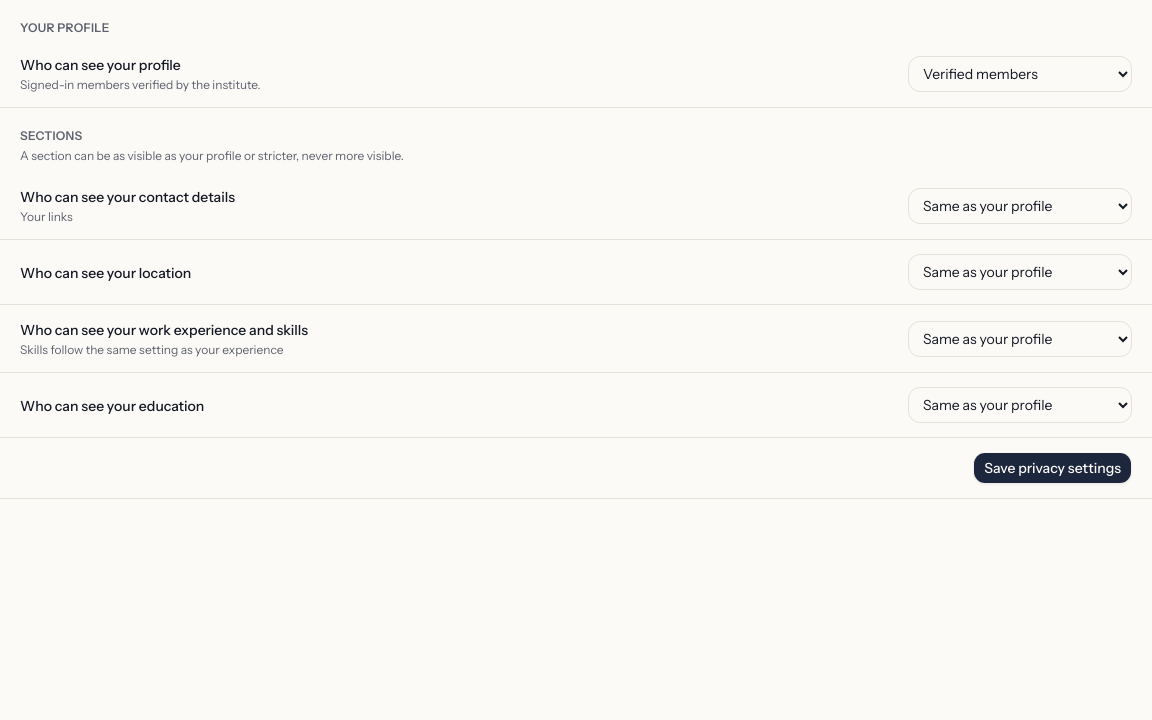
Scenario: PrivacyForm › submits the level and all four overrides, and shows a saved message
Select "Only me" in the dropdown labelled "Who can see your location": (1020, 272) 908,254 -> 1132,290
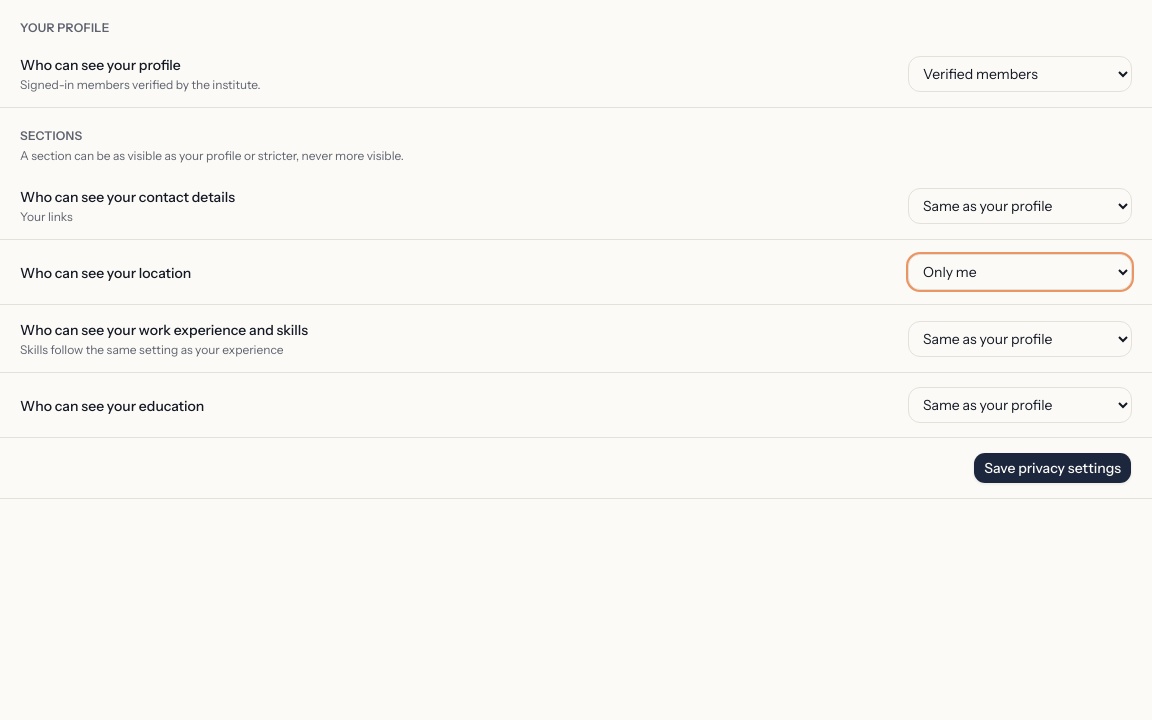
Select "Verified members" in the dropdown labelled "Who can see your work experience and skills": (1020, 338) 908,320 -> 1132,356
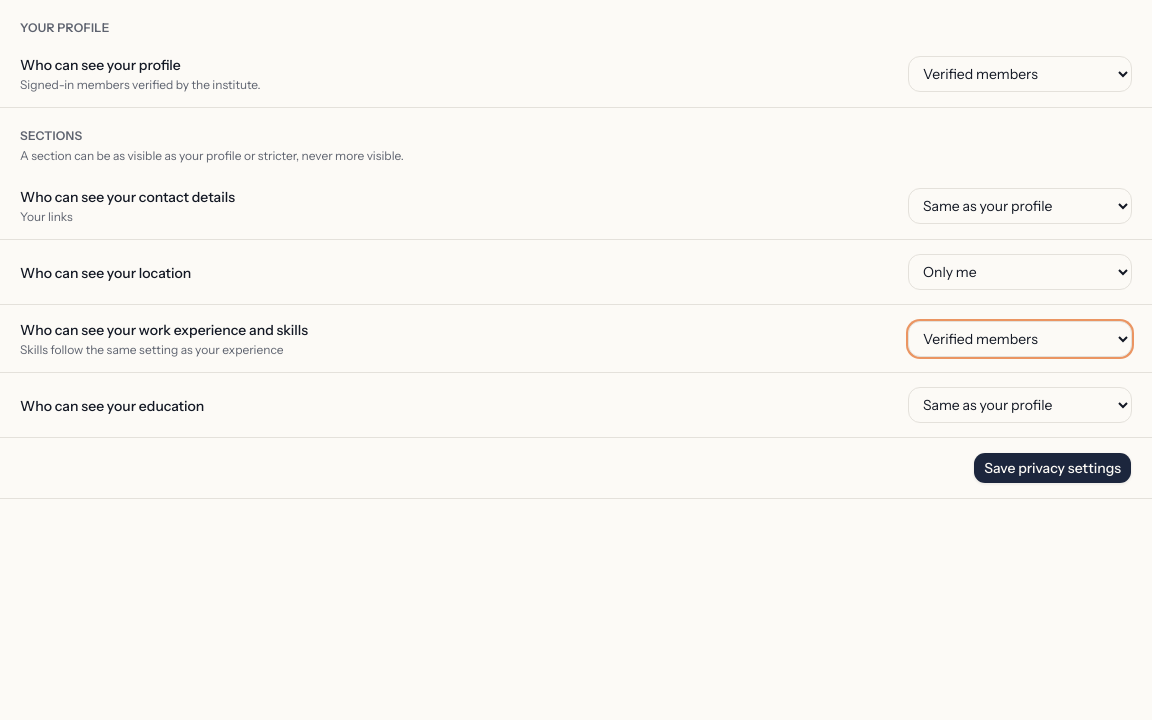
Click the button "Save privacy settings": click(1053, 468) 973,452 -> 1132,484
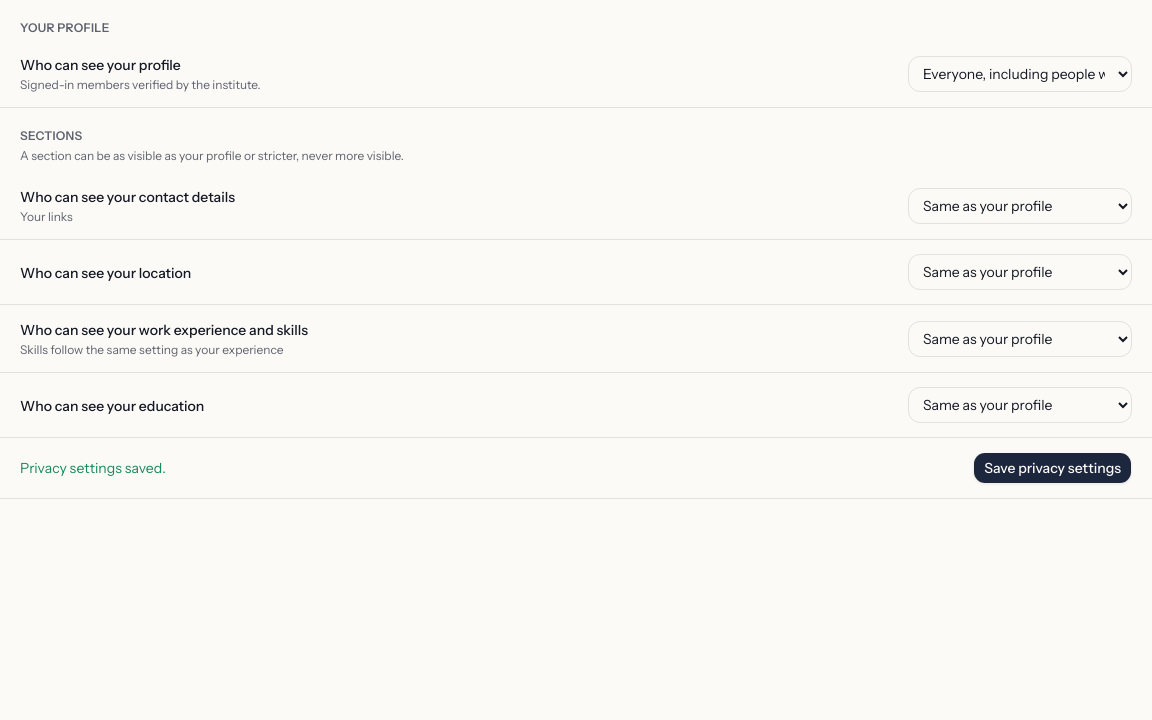
Check: the text "Privacy settings saved." is shown, box 20,458 -> 166,478
